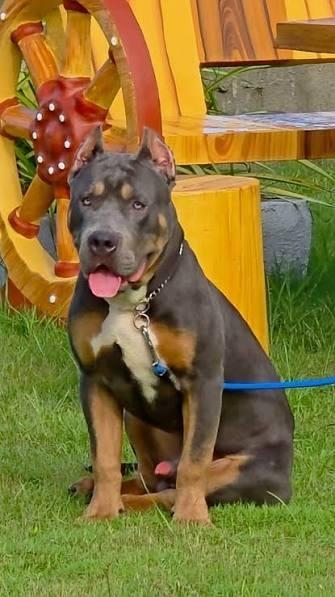adult_dog: (66, 123, 294, 526)
